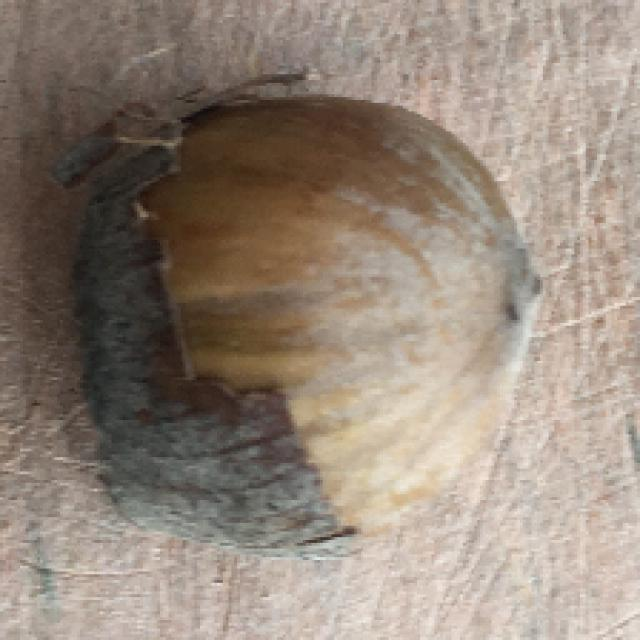damagedHazelnut: (55, 82, 547, 562)
